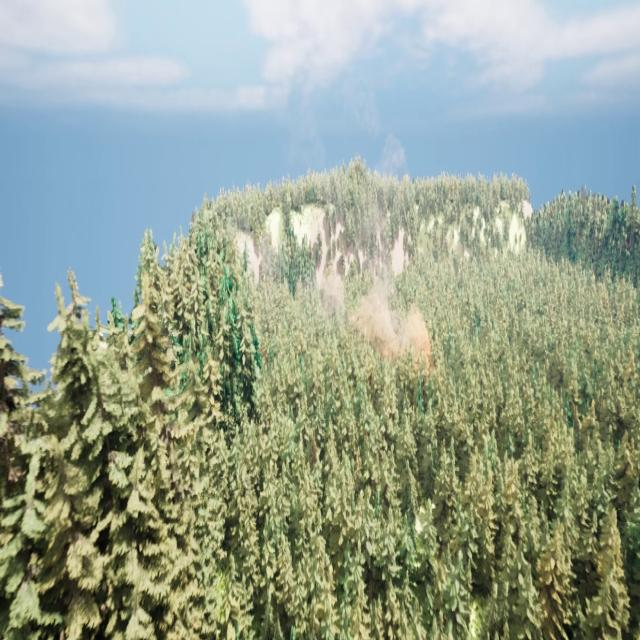smoke: (348, 277, 429, 370)
